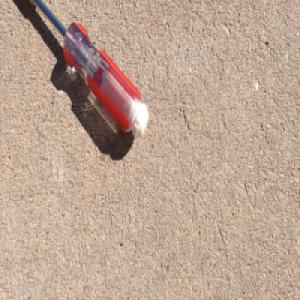Screwdriver: (26, 0, 150, 138)
